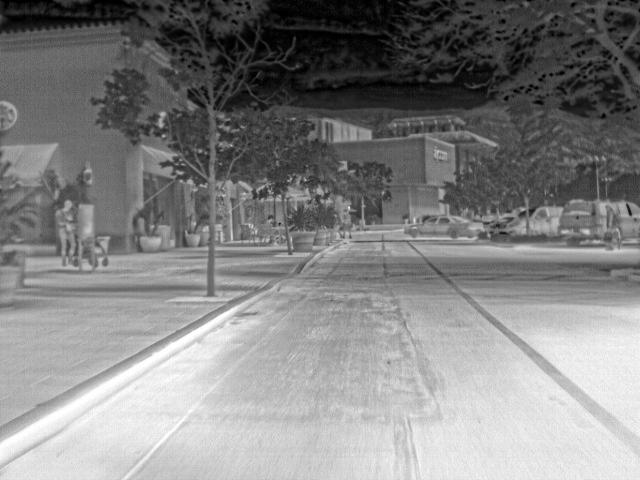car: (559, 198, 606, 246), (404, 214, 483, 239), (620, 200, 640, 246), (528, 205, 560, 230), (490, 210, 525, 232)
person: (54, 198, 76, 267), (607, 199, 620, 250), (341, 207, 355, 240), (262, 213, 275, 233)
